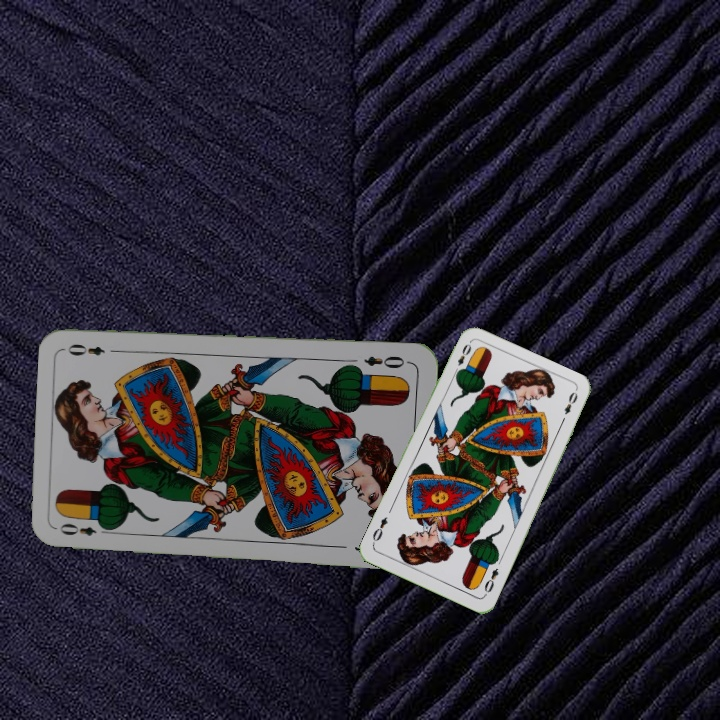EO: (56, 519, 113, 538), (360, 351, 412, 371), (449, 340, 474, 378), (480, 564, 501, 598)
